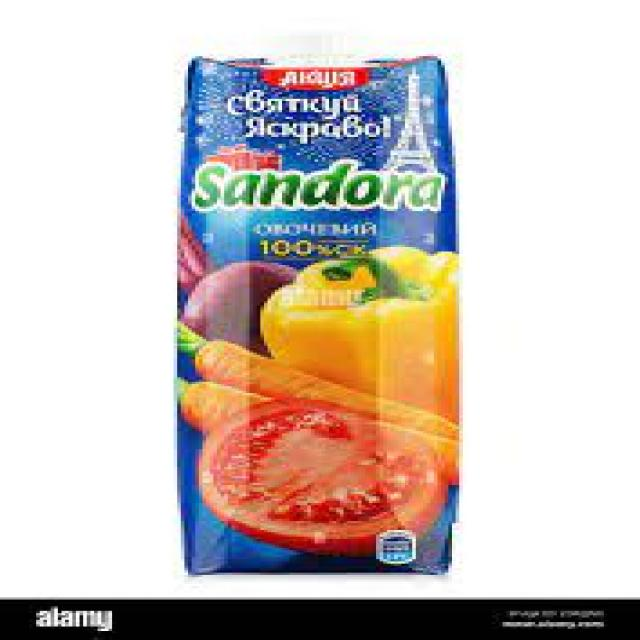non_white_jug: (157, 38, 476, 577)
